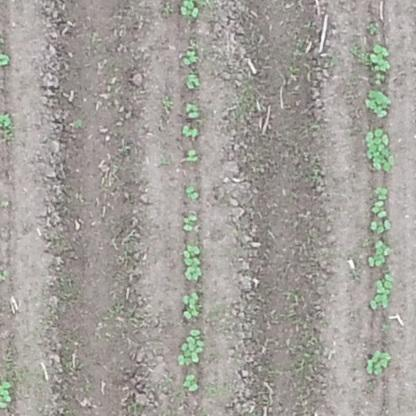vc: (365, 126, 397, 173), (367, 272, 397, 311), (176, 329, 205, 364), (364, 346, 393, 379), (181, 241, 203, 282), (363, 87, 392, 117), (366, 238, 394, 266), (181, 290, 202, 319), (371, 42, 390, 73), (181, 146, 201, 165), (183, 372, 202, 392), (369, 220, 395, 234), (179, 1, 201, 17), (184, 71, 202, 89), (370, 200, 389, 217), (180, 123, 200, 139), (2, 381, 13, 409), (181, 49, 199, 66), (184, 101, 201, 119), (182, 212, 197, 231), (373, 184, 390, 199), (184, 184, 200, 199)
